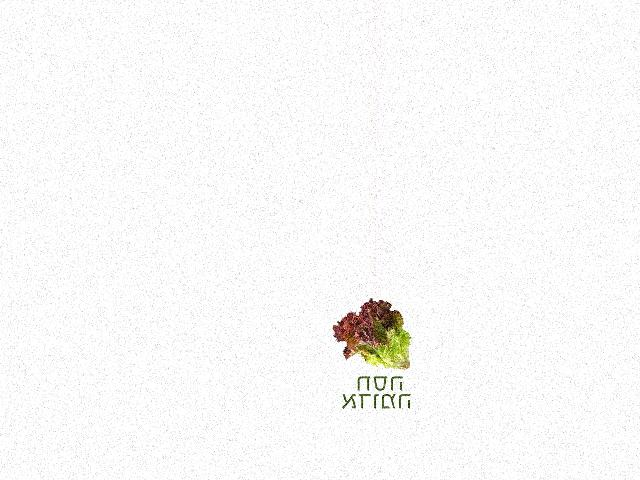lettuce: (331, 298, 418, 372)
